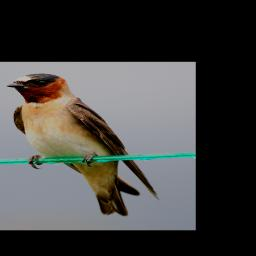Swallow: (6, 73, 160, 217)
